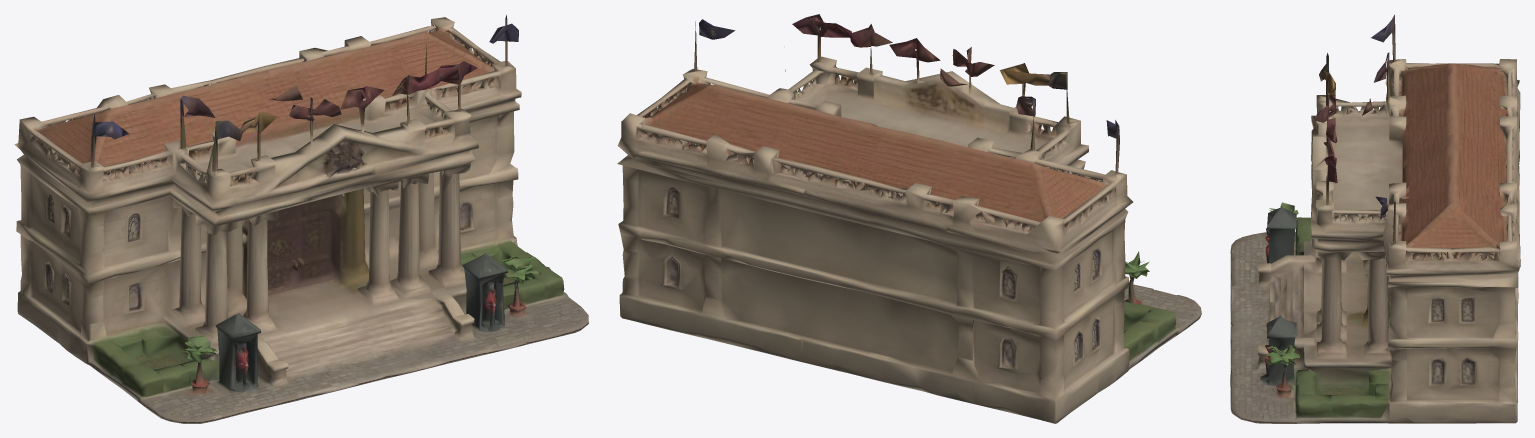
Rendered from palace_main.glb.
3 views of the same model, side by side, from view 1: azimuth 30°, elevation 25°; view 2: azimuth 150°, elevation 25°; view 3: azimuth 270°, elevation 25° (orthographic). The views are drawn at different scales.
Parts seen in each view (by area): view 1: tripo_node_049de40e-c4a4-4d0a-a3d4-0b98cde523f8; view 2: tripo_node_049de40e-c4a4-4d0a-a3d4-0b98cde523f8; view 3: tripo_node_049de40e-c4a4-4d0a-a3d4-0b98cde523f8.
Part boxes in pixels (<box>): tripo_node_049de40e-c4a4-4d0a-a3d4-0b98cde523f8: <box>14,15,588,423</box>; tripo_node_049de40e-c4a4-4d0a-a3d4-0b98cde523f8: <box>617,14,1201,423</box>; tripo_node_049de40e-c4a4-4d0a-a3d4-0b98cde523f8: <box>1230,14,1520,423</box>.
Bounding box in the file's own units: 1 × 0.5466 × 0.6384.
1 material, 1 textured.
